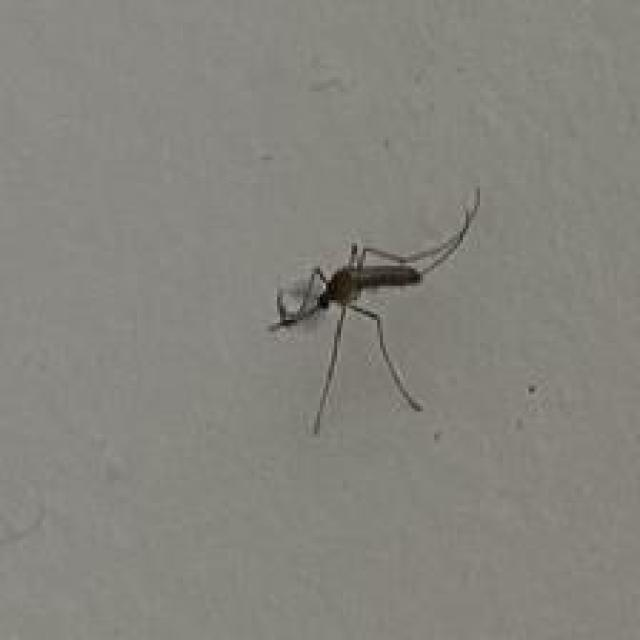Culex: (267, 184, 482, 436)
